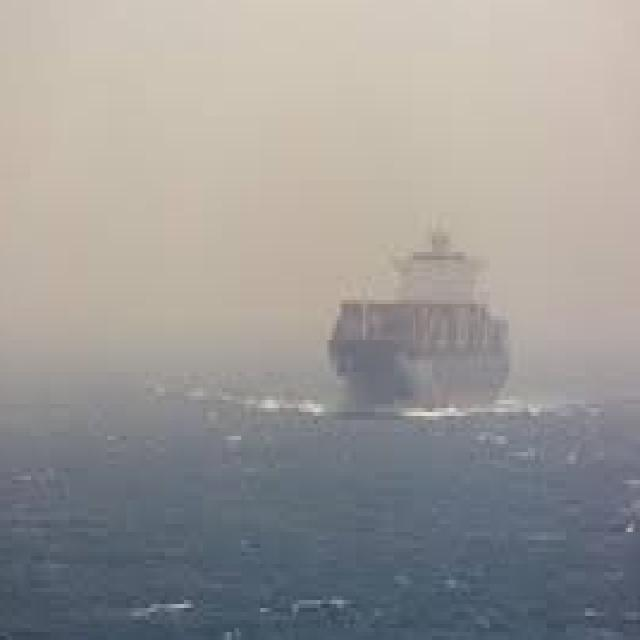cargoship: (322, 208, 541, 424)
